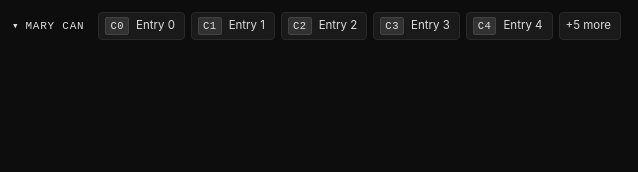
Scenario: the skill row’s expansion › leaves nothing stale when the menu shrinks to five while open
The width and height of the screenshot is (638, 172).
Click the button with class "skill-more": (590, 26) [558, 12, 621, 40]
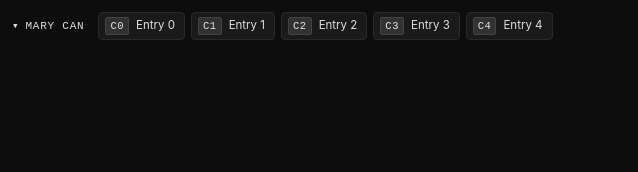
Expected: the button with class "skill-more" is gone
